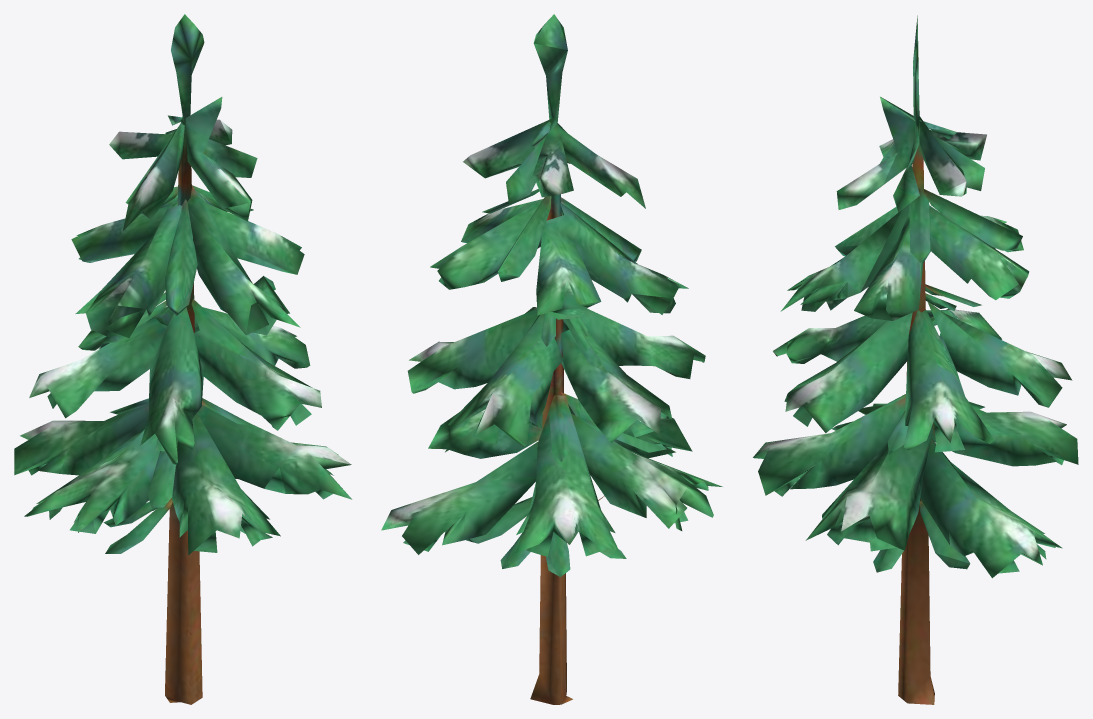
File: SM_Tree_Young.glb
3 renders of one model, left to right at view 1: azimuth 30°, elevation 25°; view 2: azimuth 150°, elevation 25°; view 3: azimuth 270°, elevation 25°, orthographic.
Parts seen in each view (by area): view 1: SM_Tree_Young; view 2: SM_Tree_Young; view 3: SM_Tree_Young.
Part boxes in pixels (x1=…): SM_Tree_Young: x1=14, y1=14, x2=352, y2=704; SM_Tree_Young: x1=381, y1=14, x2=722, y2=704; SM_Tree_Young: x1=753, y1=15, x2=1078, y2=704.
Size of what is drawn, in the model's own units: 1.12 by 2.49 by 1.08.
Materials: 1 (1 with a texture image).
